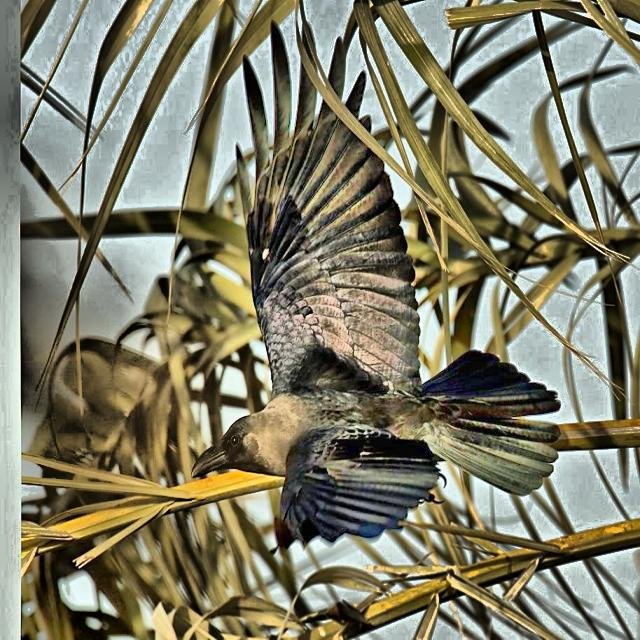crow: (151, 17, 580, 574)
